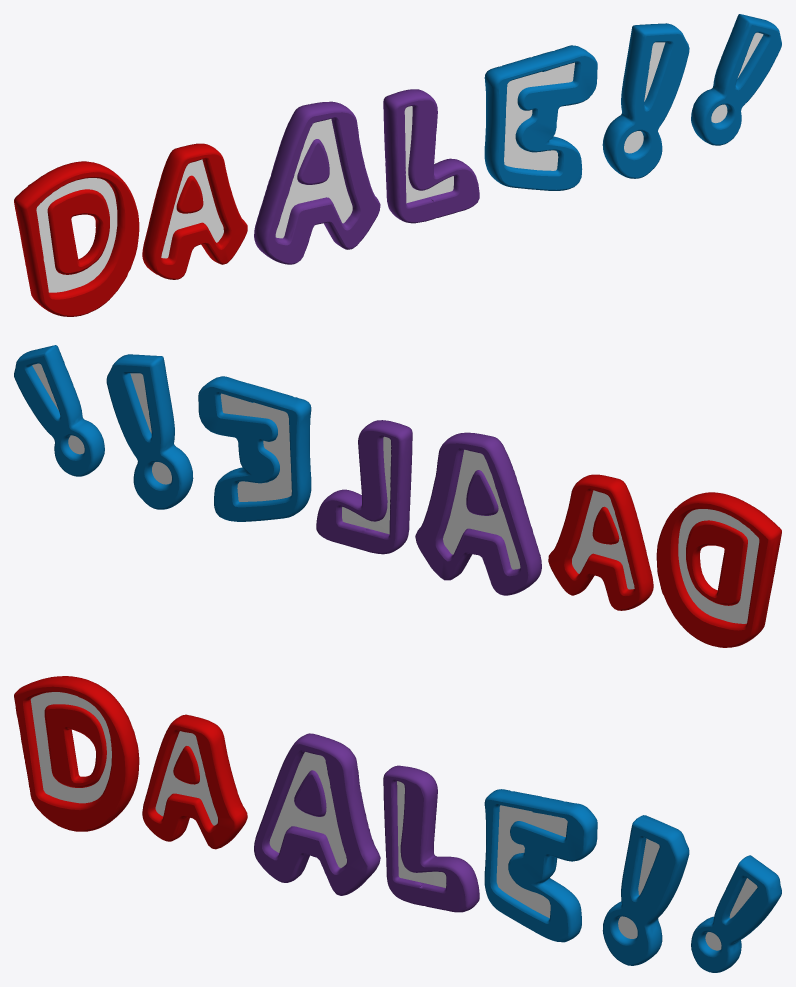
The model's file is daale.glb.
3 views of the same model, one above another, from view 1: azimuth 30°, elevation 25°; view 2: azimuth 150°, elevation 25°; view 3: azimuth 330°, elevation 25° (orthographic).
Parts seen in each view (by area): view 1: D, A2, E, A, L, S, S003; view 2: D, A2, E, A, L, S, S003; view 3: D, A2, E, A, L, S, S003.
Part boxes in pixels (<box>): D: <box>14,161,139,316</box>; A2: <box>254,101,380,264</box>; E: <box>484,45,597,190</box>; A: <box>142,143,247,279</box>; L: <box>383,89,479,223</box>; S: <box>602,23,689,178</box>; S003: <box>691,14,781,145</box>; D: <box>656,492,781,647</box>; A2: <box>415,432,541,595</box>; E: <box>198,376,311,521</box>; A: <box>548,474,653,610</box>; L: <box>316,420,412,554</box>; S: <box>106,354,193,509</box>; S003: <box>14,345,104,476</box>; D: <box>14,676,139,831</box>; A2: <box>254,733,380,895</box>; E: <box>484,789,597,942</box>; A: <box>142,714,247,849</box>; L: <box>383,765,479,912</box>; S: <box>602,815,689,965</box>; S003: <box>691,855,781,972</box>.
Size of the model in its own units: 10995 by 2054 by 327.
